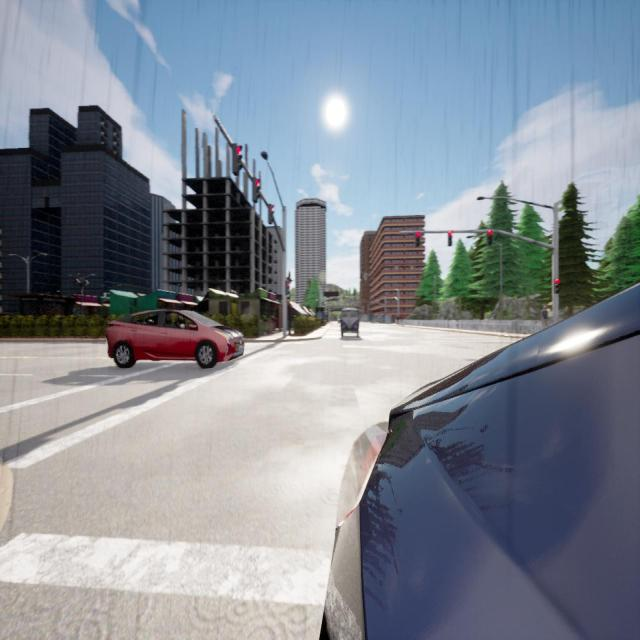Pedestrian: (541, 305, 548, 329)
Vehicle: (322, 284, 640, 640), (105, 309, 244, 367), (341, 308, 359, 337)
traffic_light: (232, 144, 242, 176), (253, 179, 261, 203), (269, 205, 274, 224), (554, 279, 560, 293), (448, 232, 452, 246), (488, 230, 492, 243), (416, 232, 420, 245), (286, 282, 290, 294)
